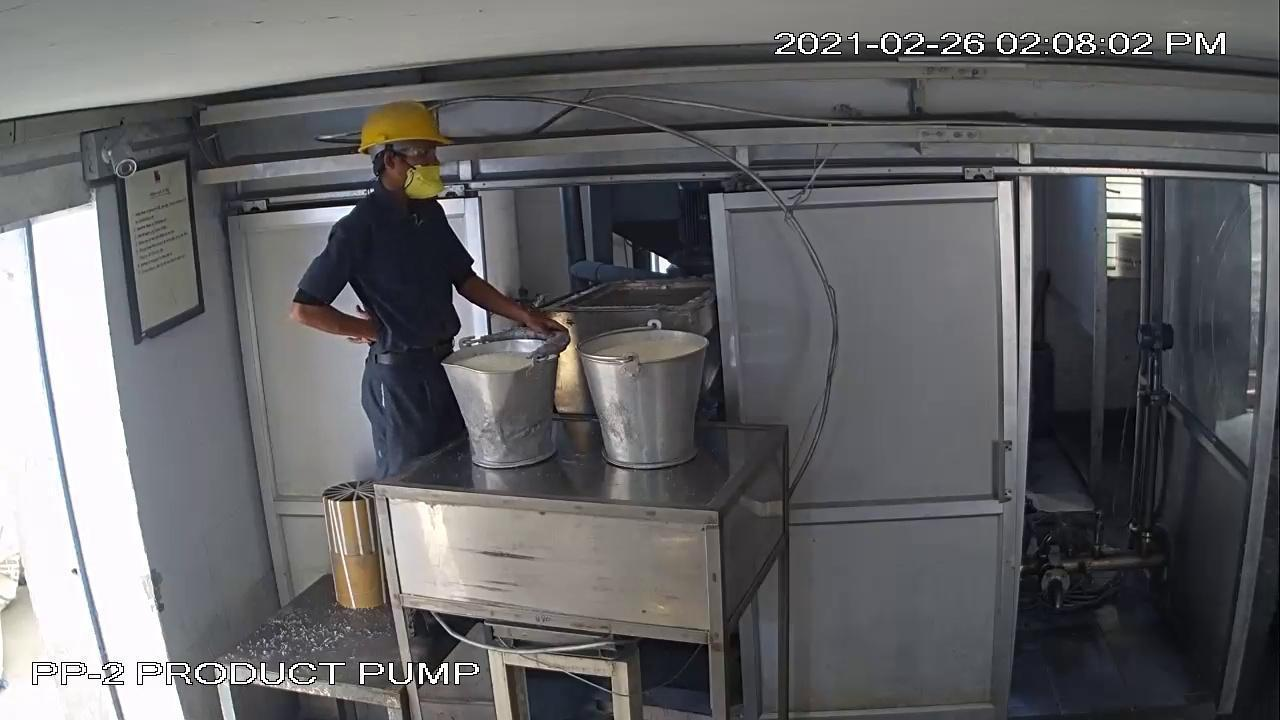helmet: (351, 99, 460, 155)
